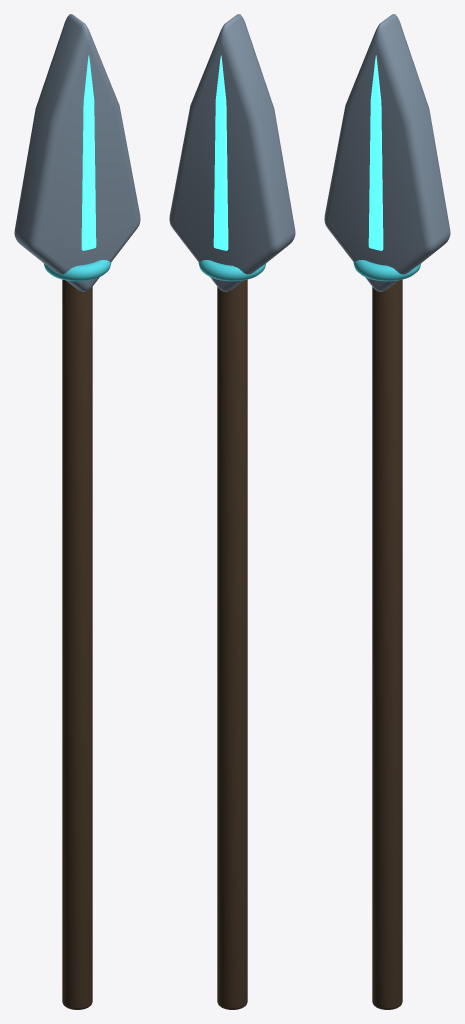
Rendered from spear.glb.
3 renders of one model, left to right at view 1: azimuth 30°, elevation 25°; view 2: azimuth 150°, elevation 25°; view 3: azimuth 330°, elevation 25°, orthographic.
Parts seen in each view (by area): view 1: SHAFT_SECONDARY, SPEAR_HEAD_PRIMARY, SPEAR_RUNE_EMISSIVE, SPEAR_COLLAR_ACCENT; view 2: SHAFT_SECONDARY, SPEAR_HEAD_PRIMARY, SPEAR_RUNE_EMISSIVE, SPEAR_COLLAR_ACCENT; view 3: SHAFT_SECONDARY, SPEAR_HEAD_PRIMARY, SPEAR_RUNE_EMISSIVE, SPEAR_COLLAR_ACCENT.
Part boxes in pixels (x1=…): SHAFT_SECONDARY: x1=62, y1=279, x2=92, y2=1009; SPEAR_HEAD_PRIMARY: x1=14, y1=14, x2=140, y2=291; SPEAR_RUNE_EMISSIVE: x1=81, y1=55, x2=96, y2=250; SPEAR_COLLAR_ACCENT: x1=43, y1=260, x2=111, y2=281; SHAFT_SECONDARY: x1=217, y1=279, x2=247, y2=1009; SPEAR_HEAD_PRIMARY: x1=169, y1=14, x2=295, y2=291; SPEAR_RUNE_EMISSIVE: x1=213, y1=55, x2=228, y2=250; SPEAR_COLLAR_ACCENT: x1=198, y1=260, x2=266, y2=281; SHAFT_SECONDARY: x1=372, y1=279, x2=402, y2=1009; SPEAR_HEAD_PRIMARY: x1=324, y1=14, x2=450, y2=291; SPEAR_RUNE_EMISSIVE: x1=368, y1=55, x2=383, y2=250; SPEAR_COLLAR_ACCENT: x1=353, y1=260, x2=421, y2=281.
Bounding box in the file's own units: 0.5488 × 4.65 × 0.29.
